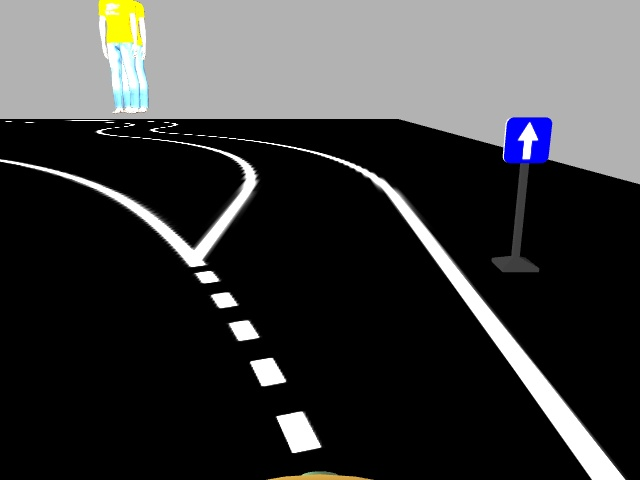OneWay: (502, 114, 550, 163)
